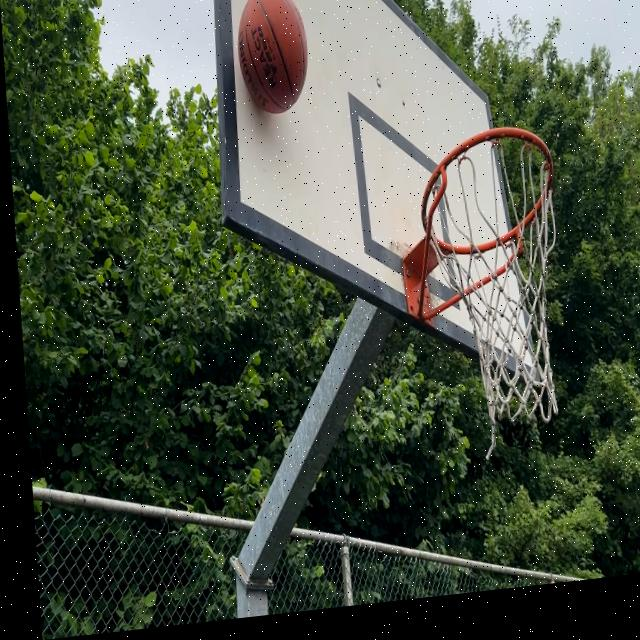rebound_hit: (235, 0, 314, 121)
